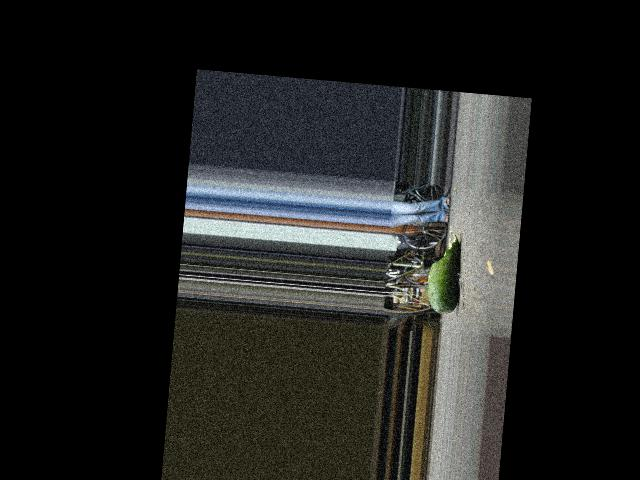cucumber: (425, 231, 463, 314)
